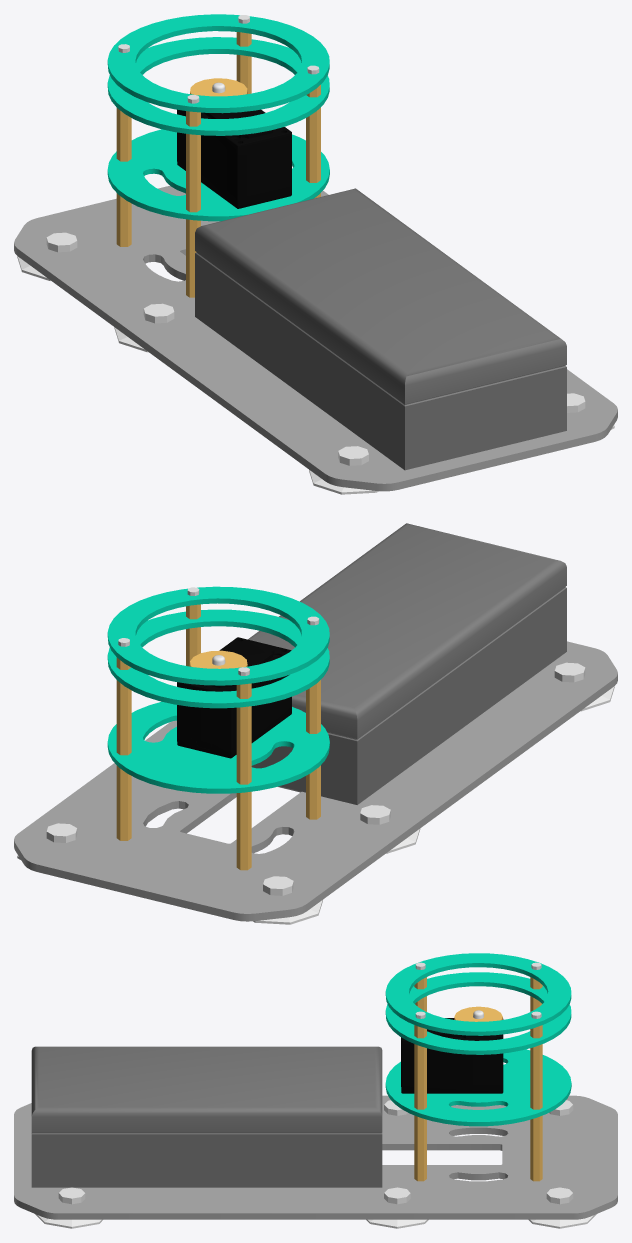
Rendered from stand.gltf.
3 views of the same model, one above another, from view 1: azimuth 30°, elevation 25°; view 2: azimuth 150°, elevation 25°; view 3: azimuth 270°, elevation 25° (orthographic). The views are drawn at different scales.
Visible parts, largest first — view 1: Stand; view 2: Stand; view 3: Stand.
Part boxes in pixels (x1=…): Stand: x1=14, y1=14, x2=617, y2=494; Stand: x1=14, y1=523, x2=617, y2=924; Stand: x1=14, y1=953, x2=617, y2=1228.
Bounding box in the file's own units: 4.85 × 3.35 × 10.24.
